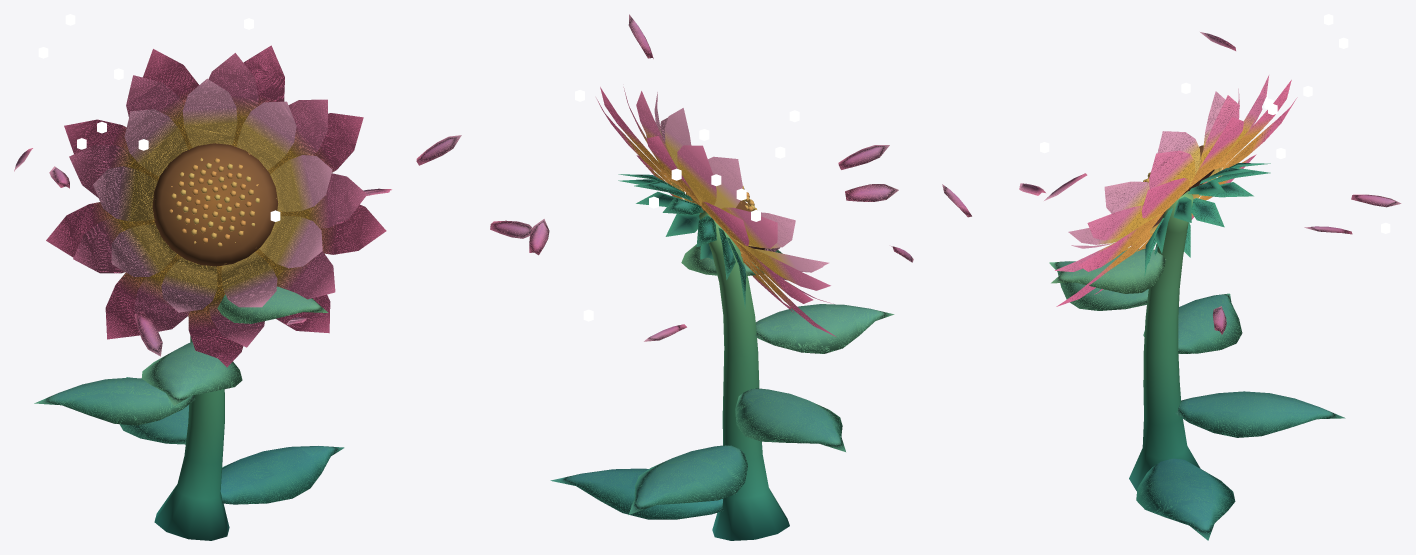
File: verdant_flower_hero_sunbloom.glb
The picture shows the model from 3 angles, left to right: view 1: azimuth 30°, elevation 25°; view 2: azimuth 150°, elevation 25°; view 3: azimuth 270°, elevation 25°; orthographic projection. The views are drawn at different scales.
Visible parts, largest first — view 1: verdant_flower_hero_sunbloom; view 2: verdant_flower_hero_sunbloom; view 3: verdant_flower_hero_sunbloom.
Boxes of the visible parts, x1,y1,x2,y2 form: verdant_flower_hero_sunbloom: (14,14,461,540); verdant_flower_hero_sunbloom: (490,14,913,540); verdant_flower_hero_sunbloom: (942,14,1401,540).
Size of the model in its own units: 4.12 by 4.73 by 4.37.
